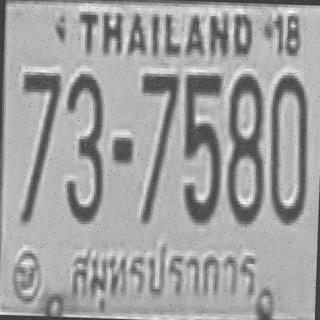N00: (266, 72, 309, 220)
N03: (61, 70, 105, 222)
N05: (180, 70, 222, 222), (182, 70, 222, 159)
N07: (135, 70, 178, 221), (17, 68, 61, 206), (137, 70, 179, 207), (18, 68, 61, 172), (18, 69, 61, 161)
N08: (223, 70, 265, 222)
P57: (65, 239, 262, 311)
